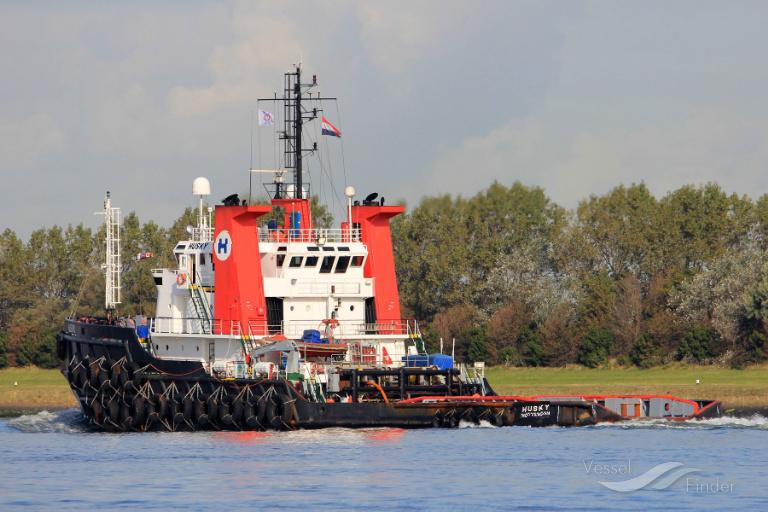OCR: (212, 231, 237, 263), (517, 402, 550, 422)
